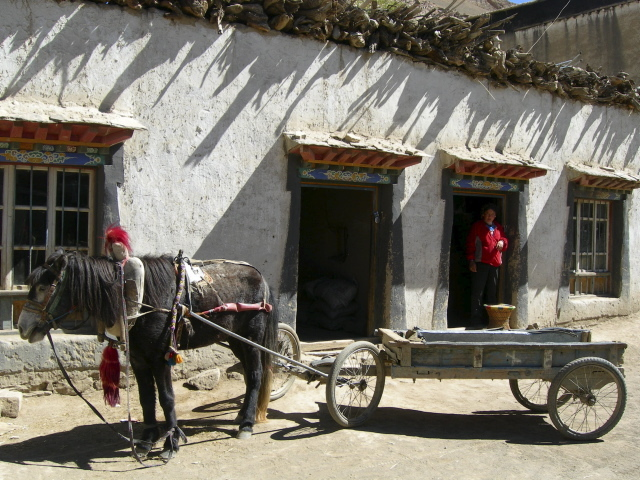horse: (18, 246, 274, 464)
